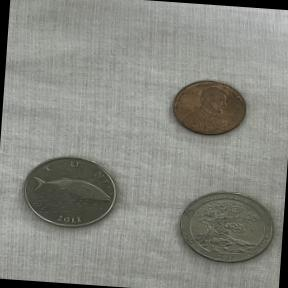Croatia-2Kune-B: (15, 149, 127, 235)
US-1cent-B: (160, 73, 255, 147)
US-25cent-B: (171, 185, 282, 270)
